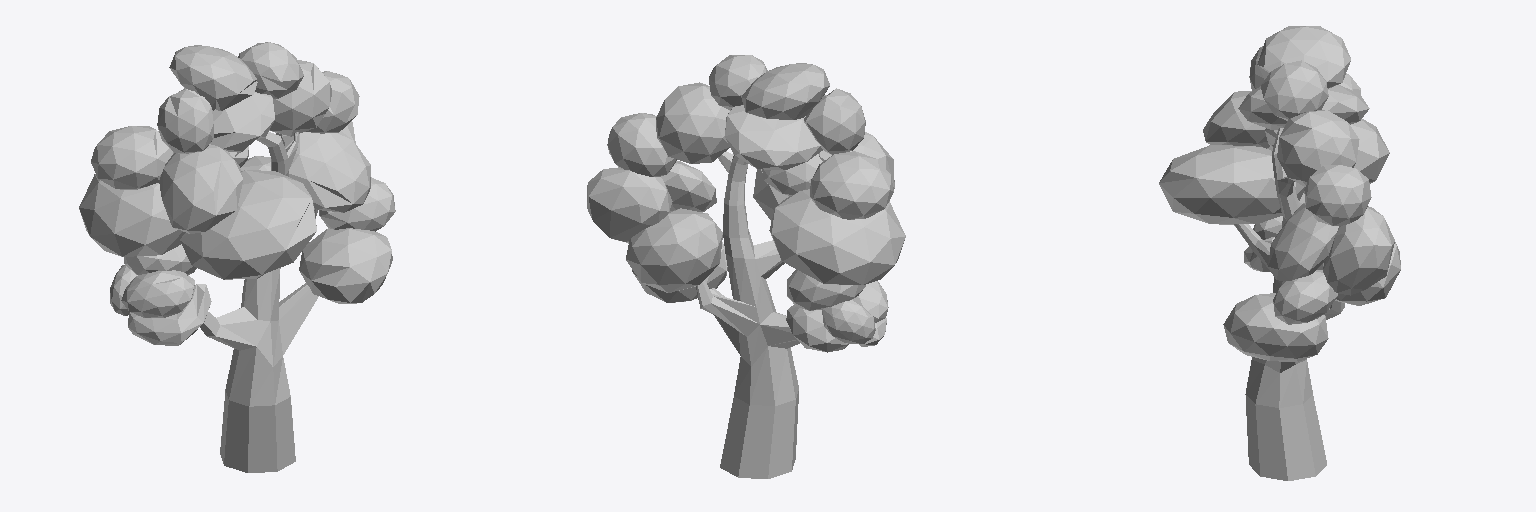
The model's file is oak.obj.
The picture shows the model from 3 angles: view 1: azimuth 30°, elevation 25°; view 2: azimuth 150°, elevation 25°; view 3: azimuth 270°, elevation 25°; orthographic projection.
Visible parts, largest first — view 1: mesh_0, mesh_1, mesh_2; view 2: mesh_0, mesh_1, mesh_2; view 3: mesh_1, mesh_0, mesh_2.
Part boxes in pixels (bbox=[...]): mesh_0: bbox=[79, 42, 395, 345]; mesh_1: bbox=[121, 45, 392, 317]; mesh_2: bbox=[200, 132, 318, 472]; mesh_0: bbox=[626, 55, 905, 352]; mesh_1: bbox=[587, 63, 889, 322]; mesh_2: bbox=[696, 151, 799, 478]; mesh_1: bbox=[1159, 26, 1394, 361]; mesh_0: bbox=[1203, 60, 1400, 324]; mesh_2: bbox=[1234, 128, 1344, 480].
Bounding box in the file's own units: 2.02 × 2.71 × 1.45.